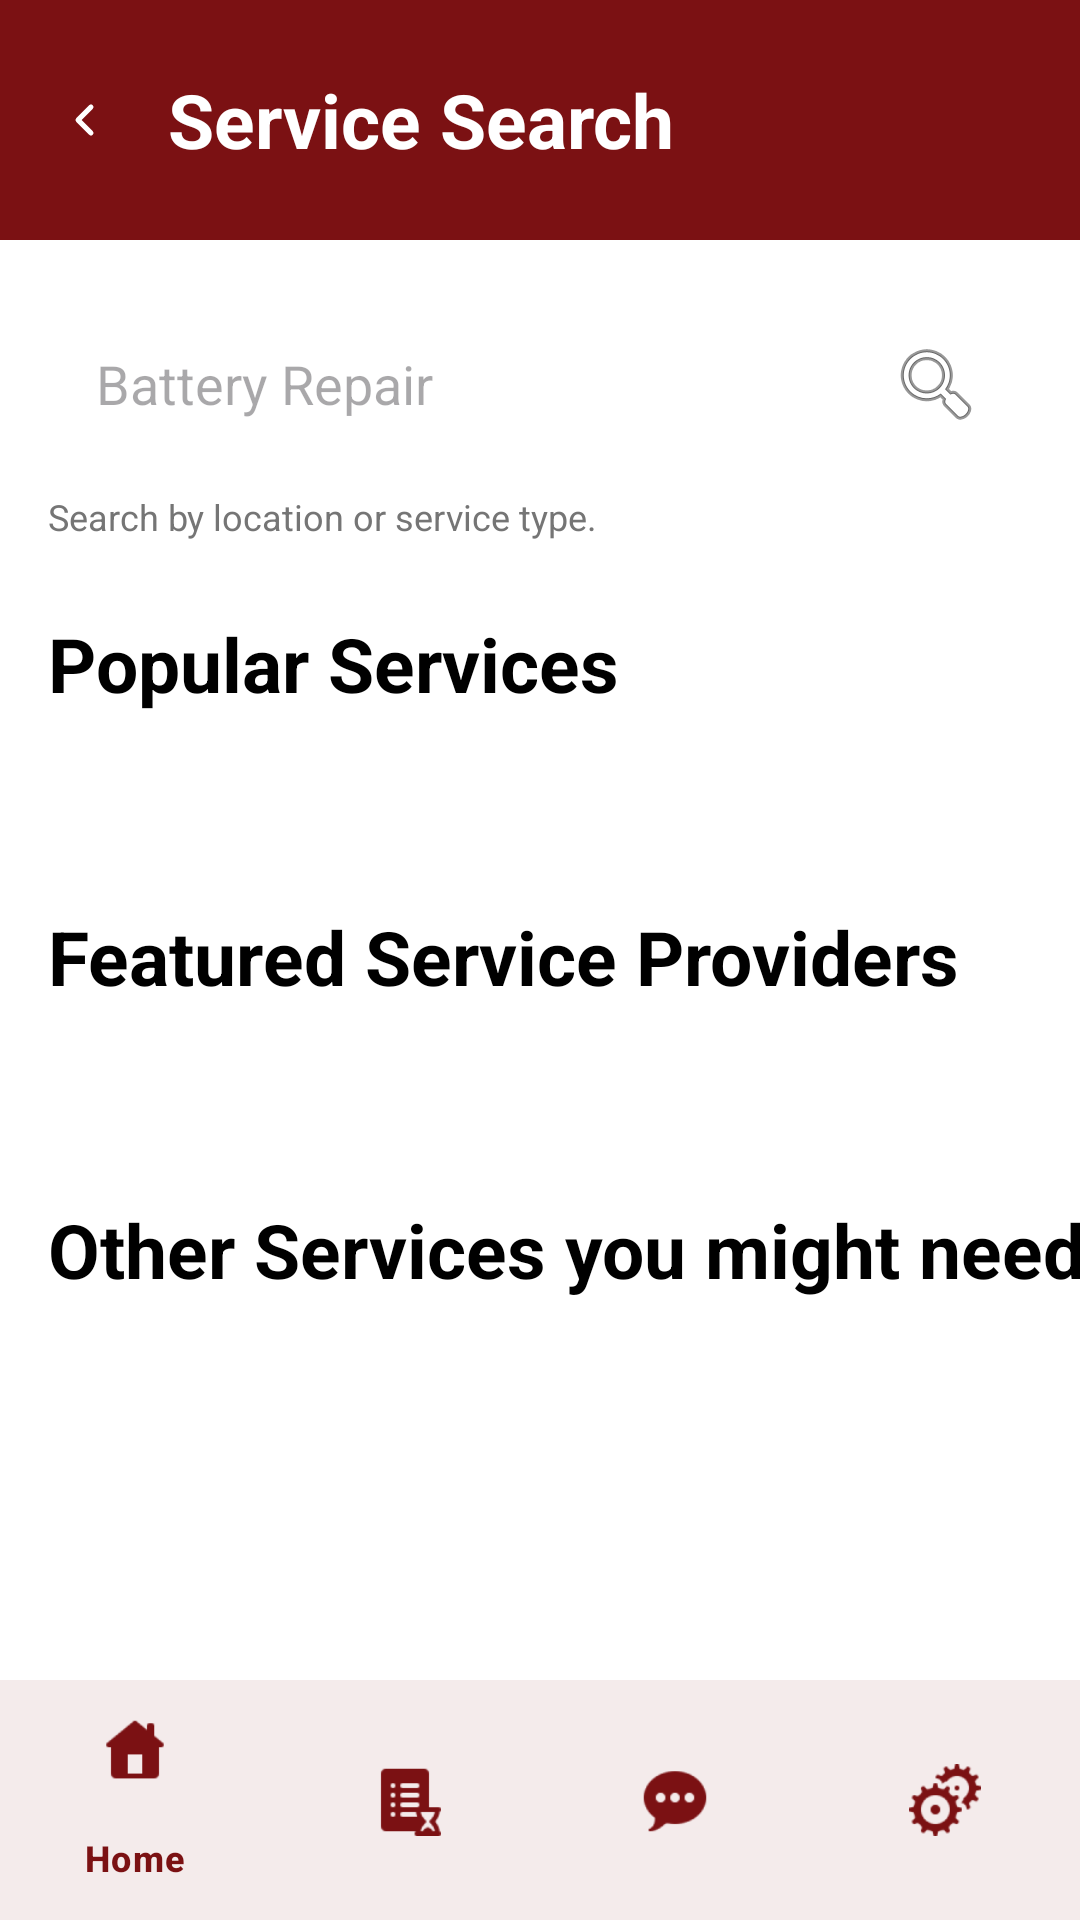

Where to tap for icons on this 1080px×1920px app screen, as (x=x, y=y):
Back: (x=84, y=120)
